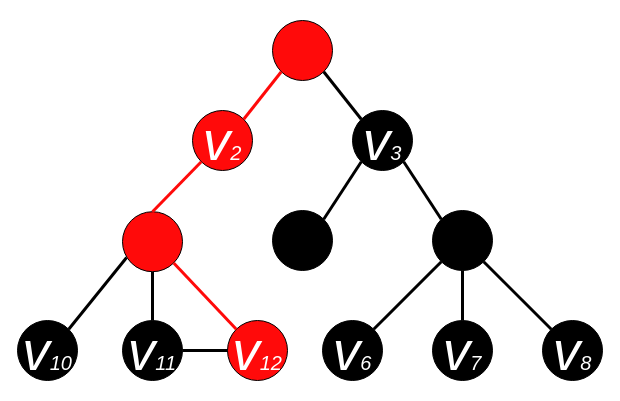
This 620x401 diagram has some shape labels left out. Each missing label, with the centre of its shape:
v 1: (302,50)
v 4: (302,240)
v 5: (462,240)
v 9: (152,241)
